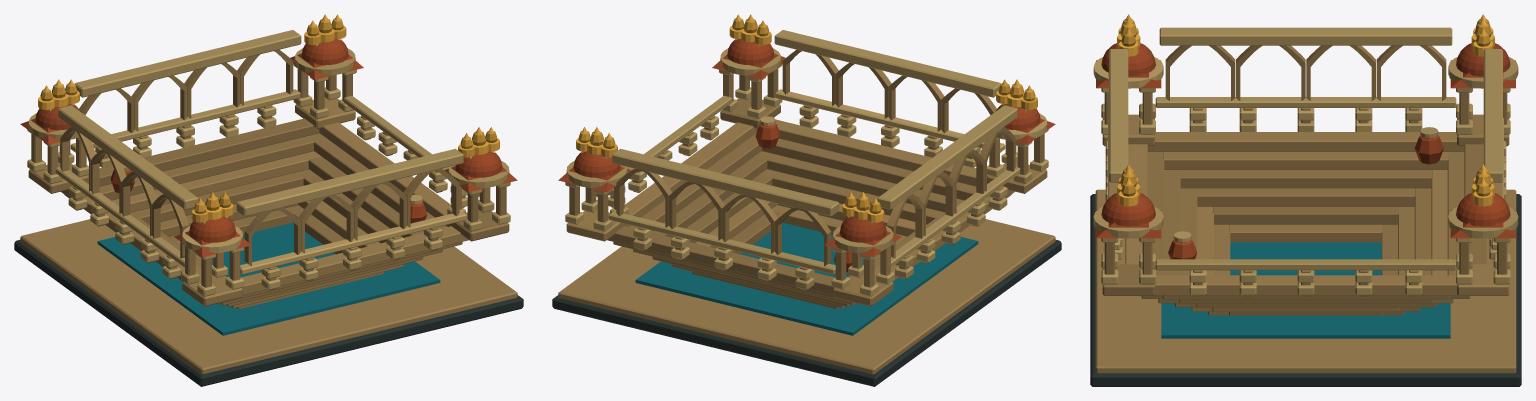
3 renders of one model, left to right at view 1: azimuth 30°, elevation 25°; view 2: azimuth 150°, elevation 25°; view 3: azimuth 270°, elevation 25°, orthographic. The views are drawn at different scales.
Parts seen in each view (by area): view 1: stepwell_level4_structure, stepwell_level4_metal; view 2: stepwell_level4_structure, stepwell_level4_metal; view 3: stepwell_level4_structure, stepwell_level4_metal.
Boxes of the visible parts, bbox=[...] form: stepwell_level4_structure: bbox=[14, 18, 523, 386]; stepwell_level4_metal: bbox=[38, 14, 499, 222]; stepwell_level4_structure: bbox=[552, 18, 1061, 386]; stepwell_level4_metal: bbox=[576, 14, 1037, 222]; stepwell_level4_structure: bbox=[1090, 19, 1521, 386]; stepwell_level4_metal: bbox=[1117, 14, 1494, 206].
Size of the model in its own units: 5.6 by 2.93 by 5.6.
